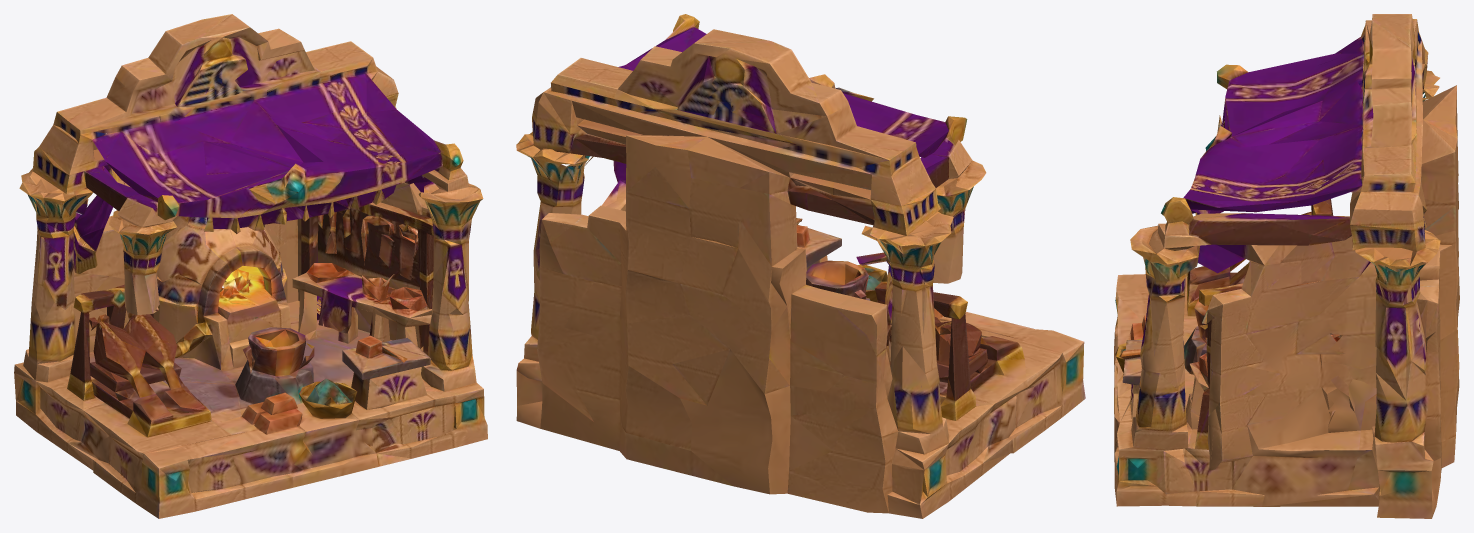
File: smithy.glb
3 views of the same model, side by side, from view 1: azimuth 30°, elevation 25°; view 2: azimuth 150°, elevation 25°; view 3: azimuth 270°, elevation 25° (orthographic). The views are drawn at different scales.
Size of the model in its own units: 1.91 by 1.78 by 1.41.
1 material, 1 textured.
